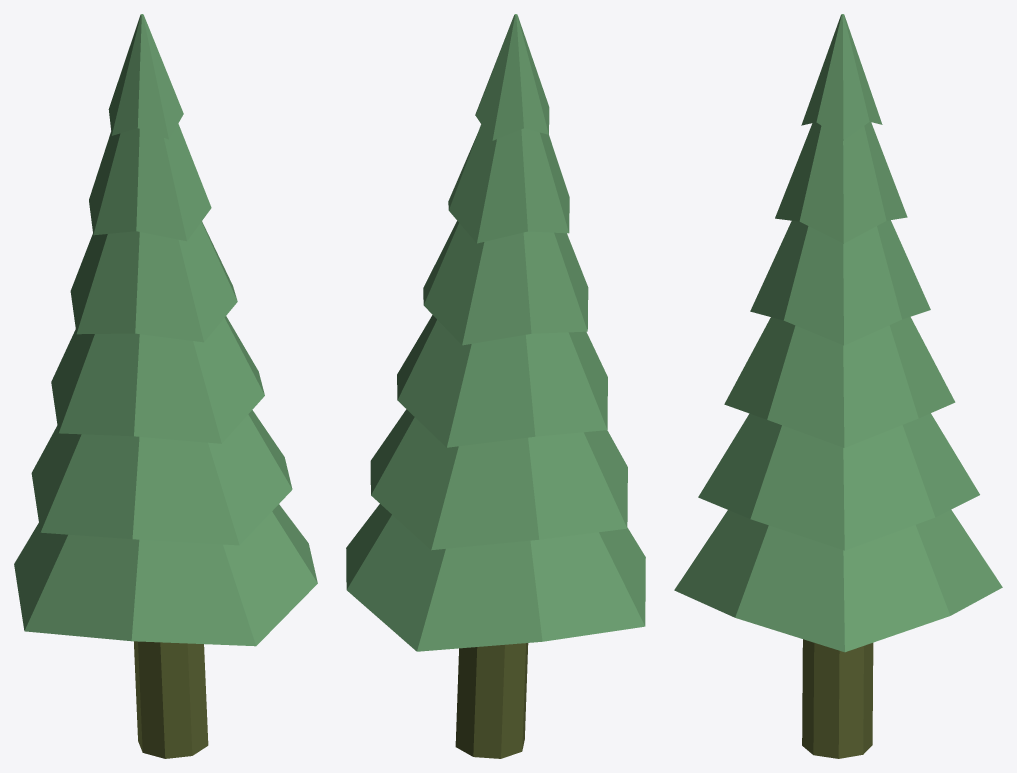
Rendered from pinetree.obj.
The picture shows the model from 3 angles, left to right: view 1: azimuth 30°, elevation 25°; view 2: azimuth 150°, elevation 25°; view 3: azimuth 270°, elevation 25°; orthographic projection. The views are drawn at different scales.
Visible parts, largest first — view 1: SapinHiver.015_Cylinder.034; view 2: SapinHiver.015_Cylinder.034; view 3: SapinHiver.015_Cylinder.034.
Boxes of the visible parts, box(x1,y1,x2,y2) form: SapinHiver.015_Cylinder.034: box(14, 14, 317, 758); SapinHiver.015_Cylinder.034: box(346, 14, 645, 758); SapinHiver.015_Cylinder.034: box(674, 14, 1002, 758).
Size of the model in its own units: 2.08 by 5.01 by 2.08.
